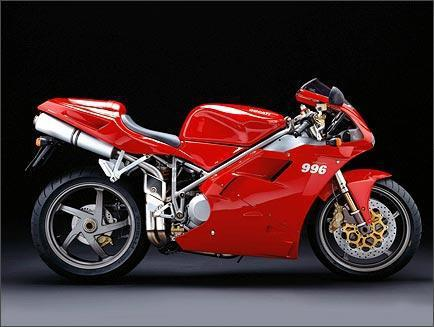motorcycle: (10, 68, 434, 290)
